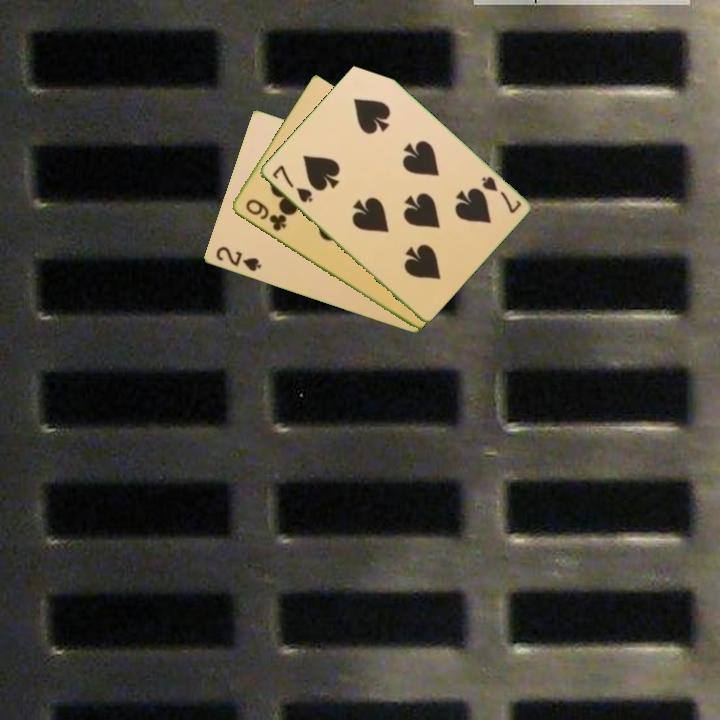2s: (212, 243, 264, 274)
7s: (268, 162, 315, 206), (478, 173, 524, 216)
9c: (242, 195, 289, 234)
